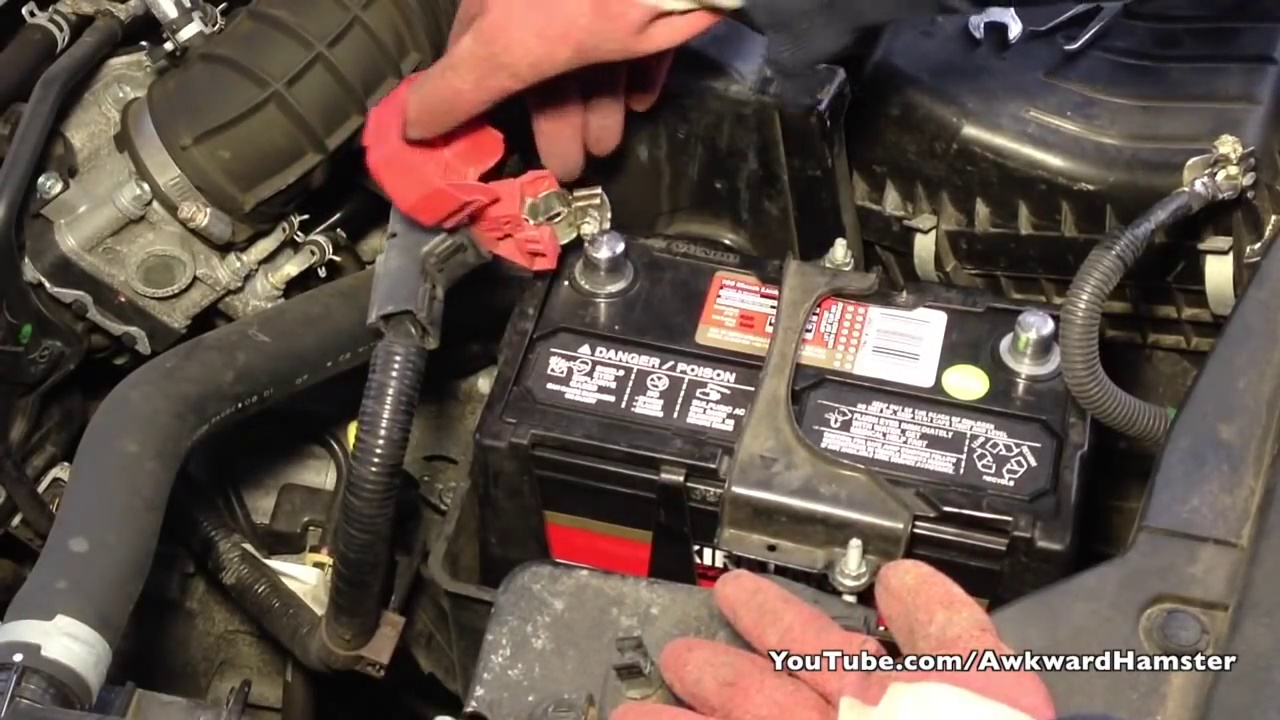battery: (476, 198, 1074, 556)
neg_disconnected: (970, 279, 1100, 395)
pos_disconnected: (373, 133, 643, 312)
pos_touched: (413, 23, 641, 323)
